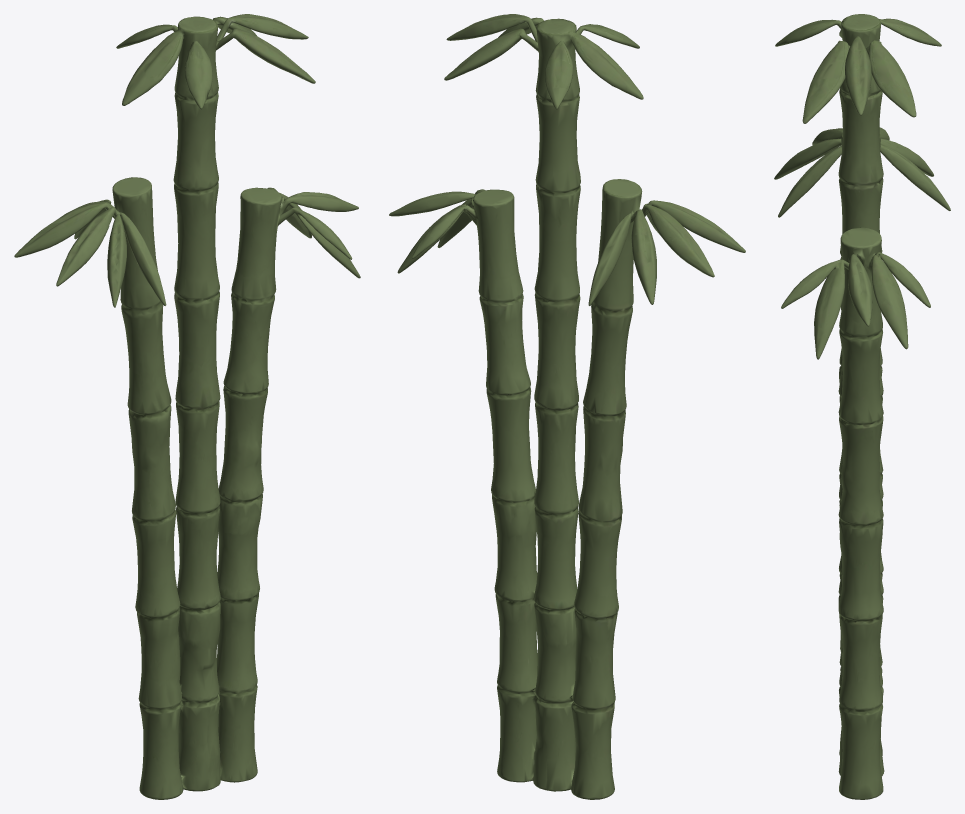
Rendered from bamboo-2.glb.
3 renders of one model, left to right at view 1: azimuth 30°, elevation 25°; view 2: azimuth 150°, elevation 25°; view 3: azimuth 270°, elevation 25°, orthographic.
Bounding box in the file's own units: 0.879 × 1.9 × 0.4056.
Materials: 1 (1 with a texture image).
